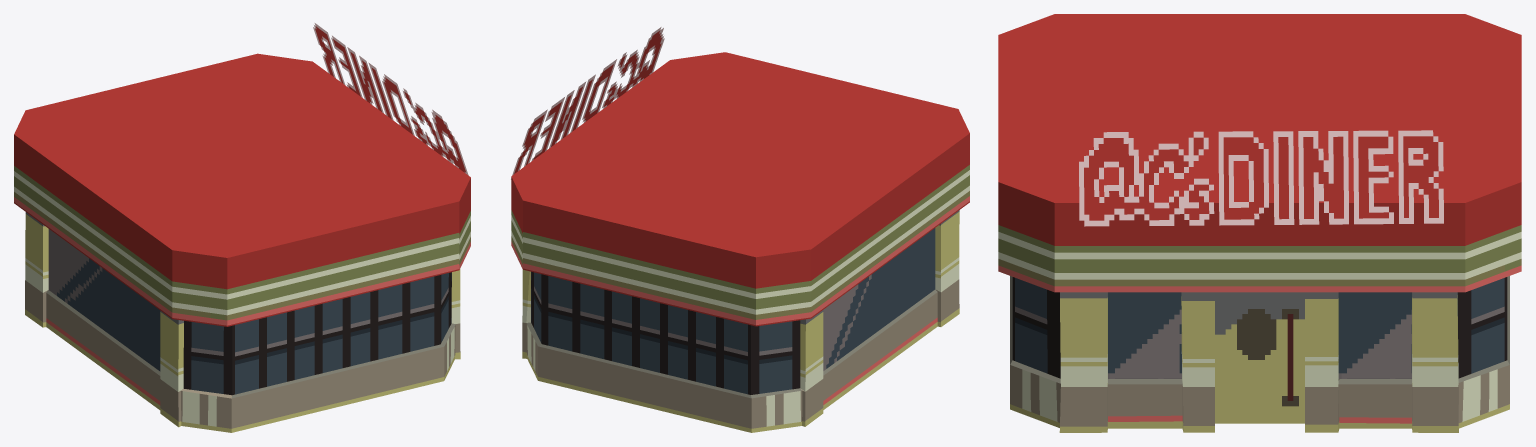
Rendered from QCs.glb.
3 views of the same model, side by side, from view 1: azimuth 30°, elevation 25°; view 2: azimuth 150°, elevation 25°; view 3: azimuth 270°, elevation 25° (orthographic). The views are drawn at different scales.
Parts seen in each view (by area): view 1: QCS; view 2: QCS; view 3: QCS.
Boxes of the visible parts, x1,y1,x2,y2 form: QCS: [14, 23, 470, 432]; QCS: [511, 27, 969, 432]; QCS: [998, 14, 1521, 432].
Size of the model in its own units: 11.03 by 7.98 by 12.4.
1 material, 1 textured.
